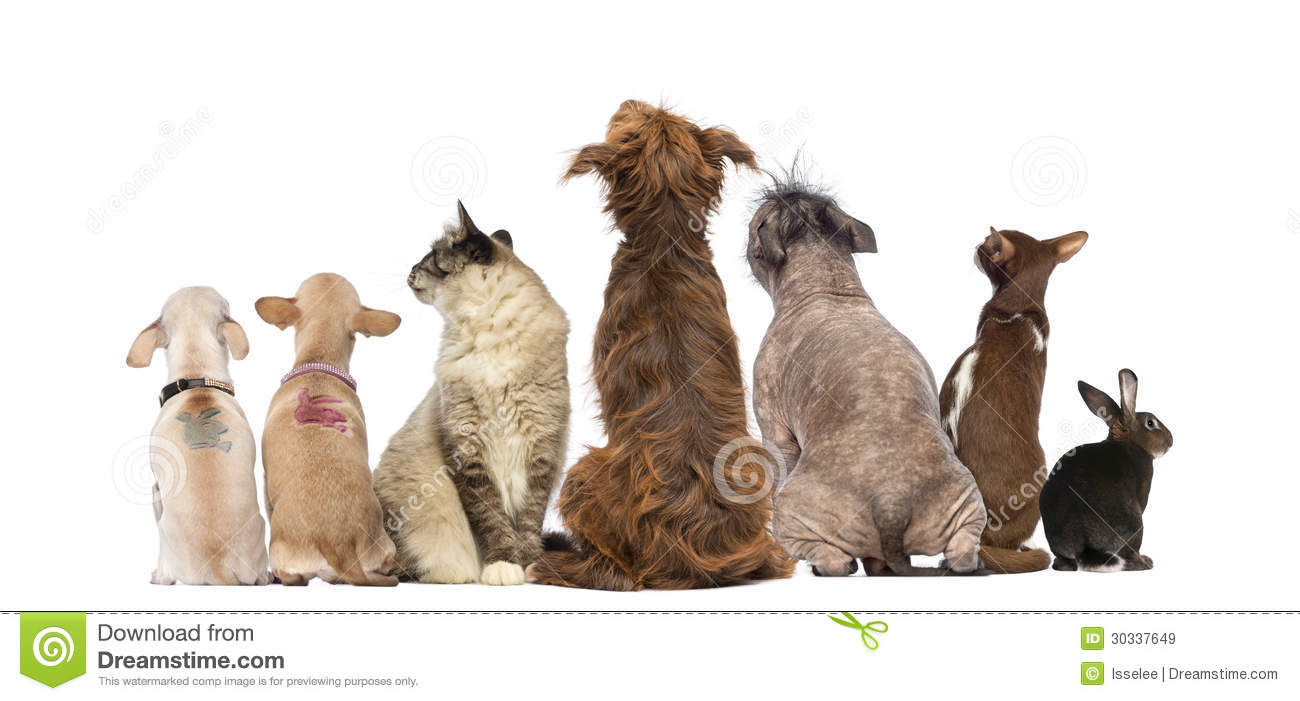dog: (551, 97, 782, 591), (739, 185, 978, 573), (257, 271, 404, 591), (123, 283, 272, 587)
